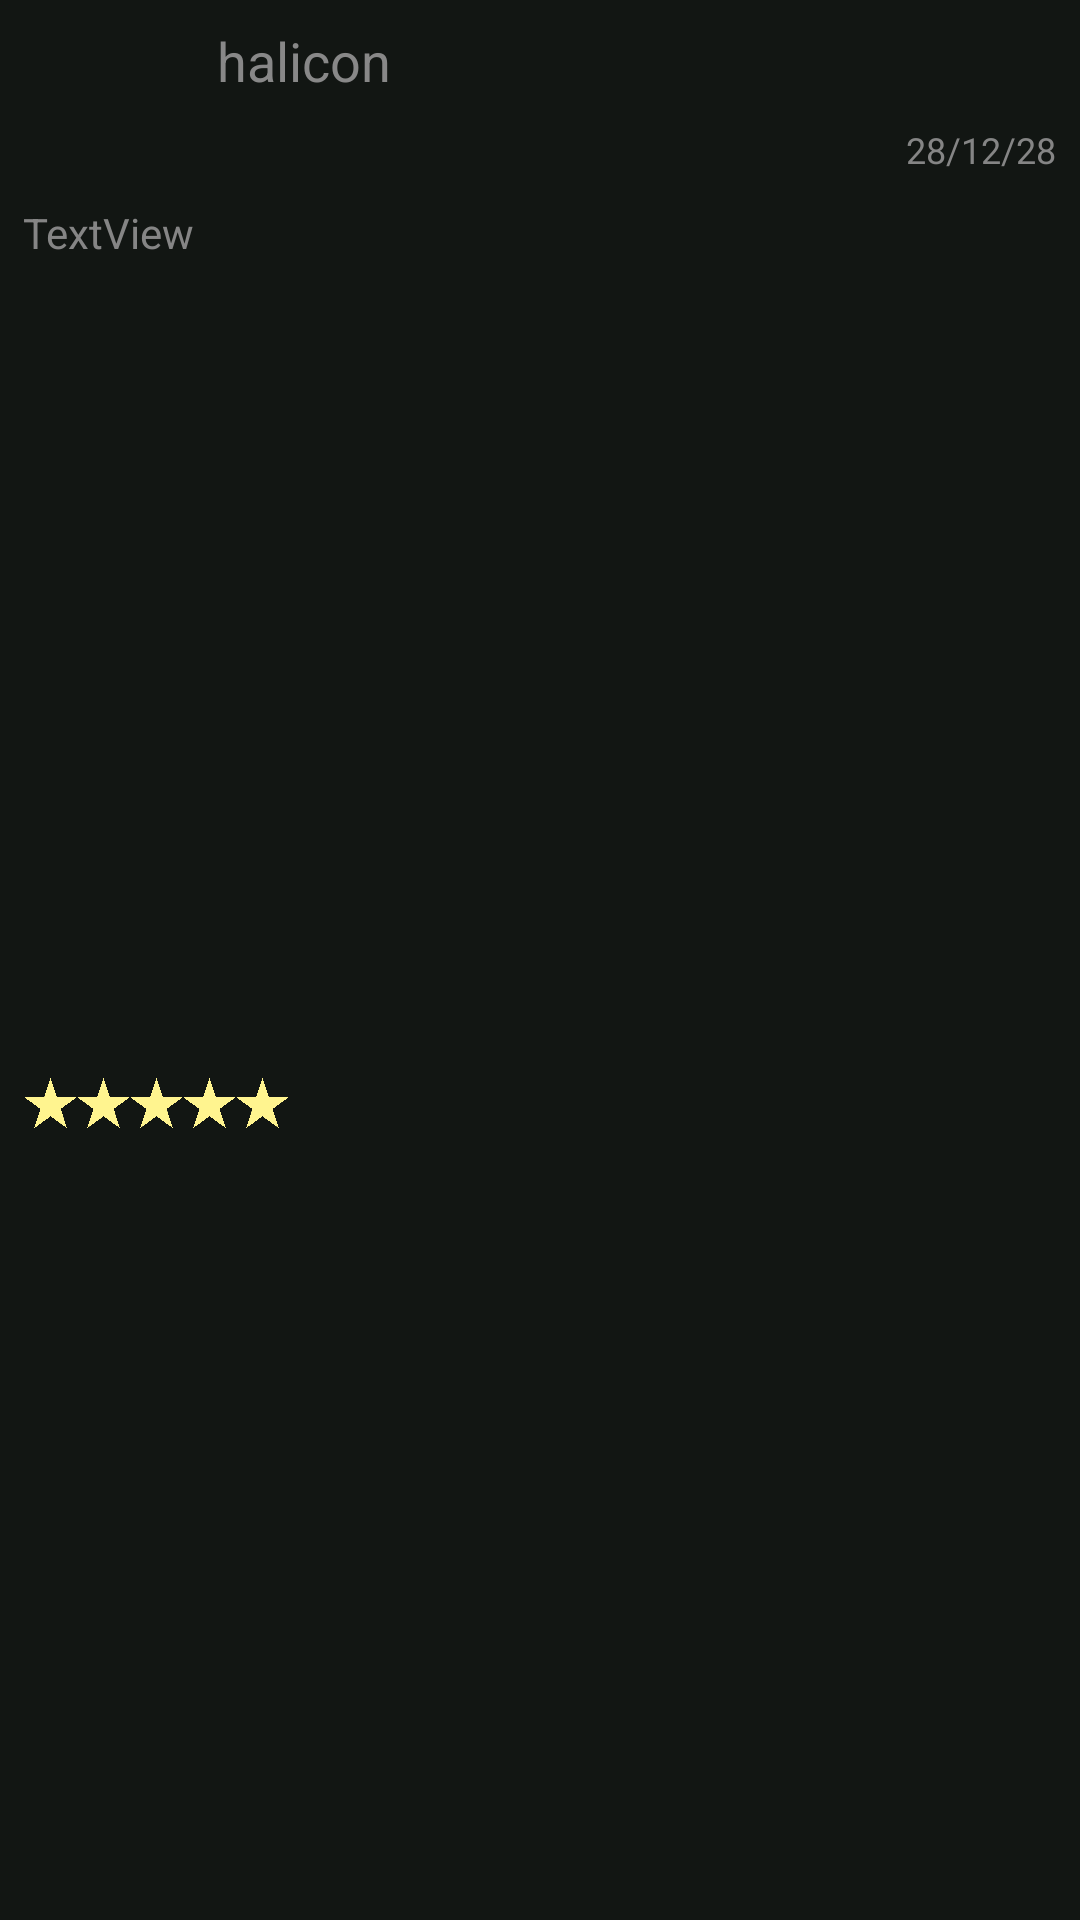

Icons on this 1080 x 1920 Android screen, each with the point to tap as point (x, y):
fivestar: point (156, 1103)
